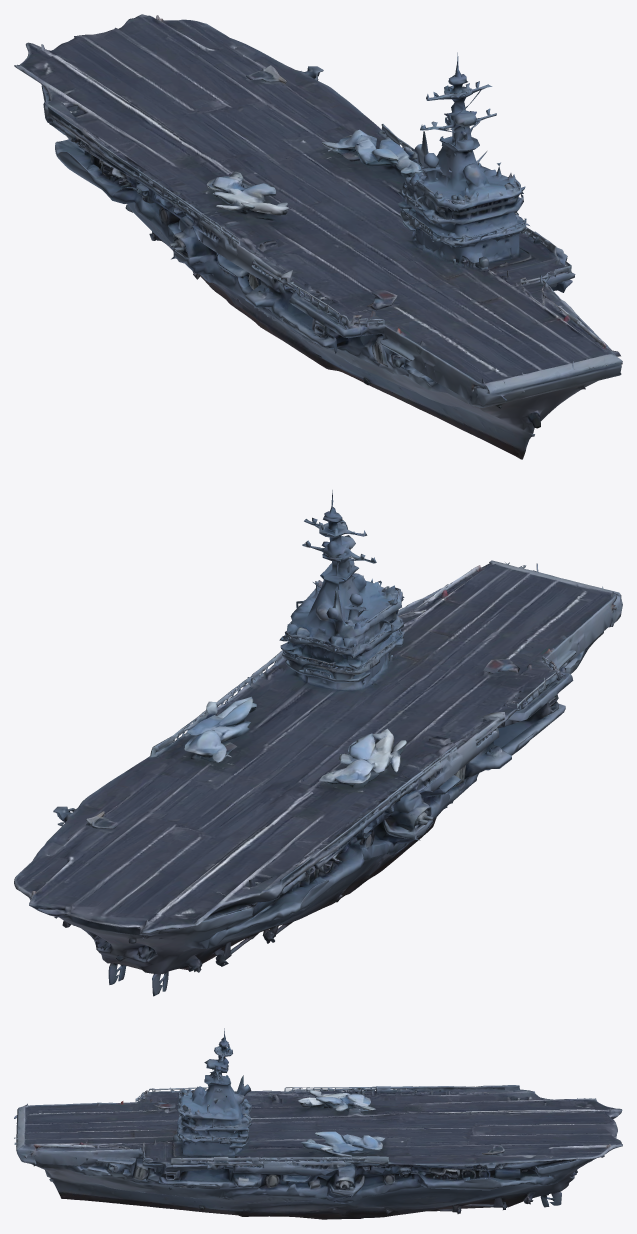
File: carrier.glb
3 views of the same model, one above another, from view 1: azimuth 30°, elevation 25°; view 2: azimuth 150°, elevation 25°; view 3: azimuth 270°, elevation 25° (orthographic). The views are drawn at different scales.
Visible parts, largest first — view 1: tripo_node_08709287-84f7-4de4-bbfc-ae420f647758; view 2: tripo_node_08709287-84f7-4de4-bbfc-ae420f647758; view 3: tripo_node_08709287-84f7-4de4-bbfc-ae420f647758.
Part boxes in pixels (bbox=[...]): tripo_node_08709287-84f7-4de4-bbfc-ae420f647758: bbox=[14, 14, 622, 459]; tripo_node_08709287-84f7-4de4-bbfc-ae420f647758: bbox=[14, 490, 622, 996]; tripo_node_08709287-84f7-4de4-bbfc-ae420f647758: bbox=[14, 1028, 622, 1219].
Size of the model in its own units: 0.3196 by 0.3543 by 1.
Materials: 1 (1 with a texture image).
